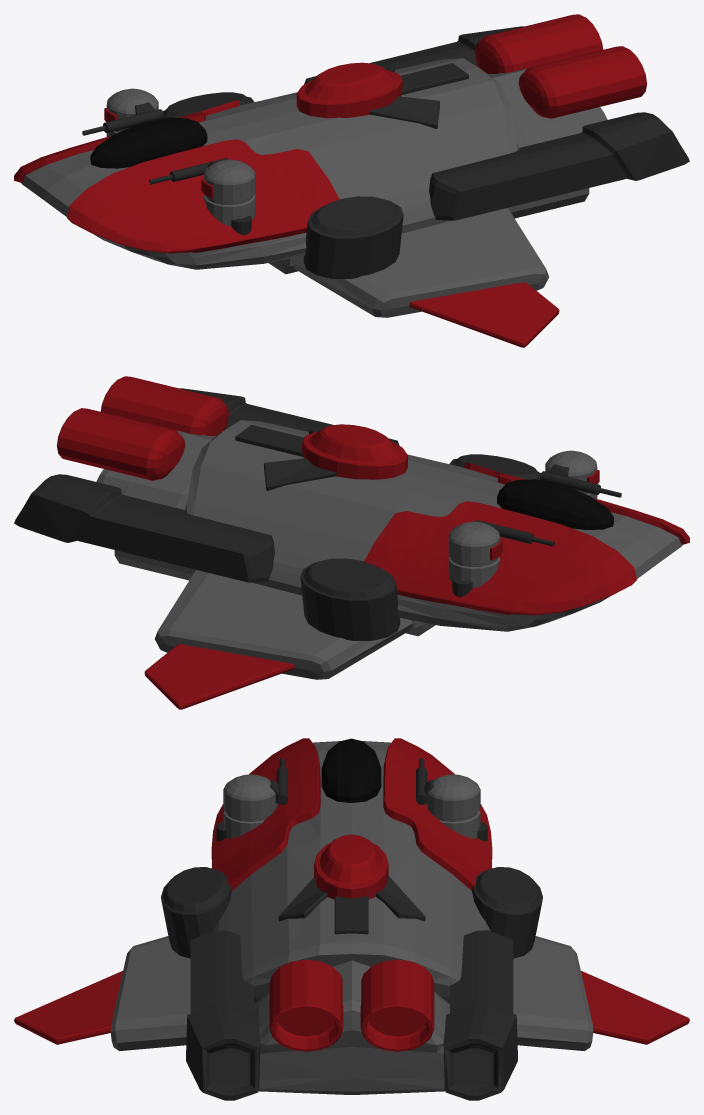
File: fga_corvette1_r.glb
The picture shows the model from 3 angles, top to bottom: view 1: azimuth 30°, elevation 25°; view 2: azimuth 150°, elevation 25°; view 3: azimuth 270°, elevation 25°; orthographic projection. The views are drawn at different scales.
Parts seen in each view (by area): view 1: Corvette_01; view 2: Corvette_01; view 3: Corvette_01.
Part boxes in pixels (<box>): Corvette_01: <box>14,14,689,347</box>; Corvette_01: <box>14,376,689,709</box>; Corvette_01: <box>14,738,689,1100</box>.
Bounding box in the file's own units: 2068 × 550 × 2001.
Materials: 1 (1 with a texture image).
